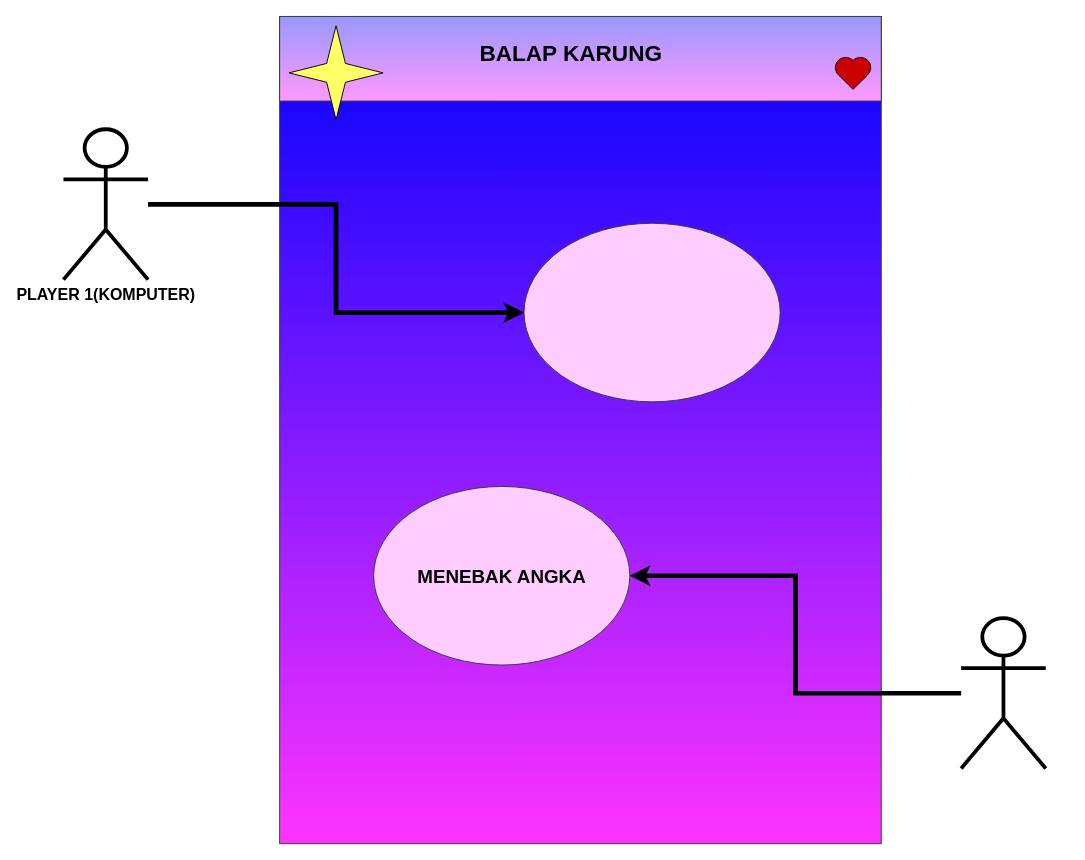
Image size: 1085x860. Some labels were removed from this diagram. Here are the shapes that lost their labels. From the top down, the centre of each, then its label:
At pixel 651 312: "RANDOM ANGKA".
At pixel 1003 693: "PLAYER 2(USER)".
